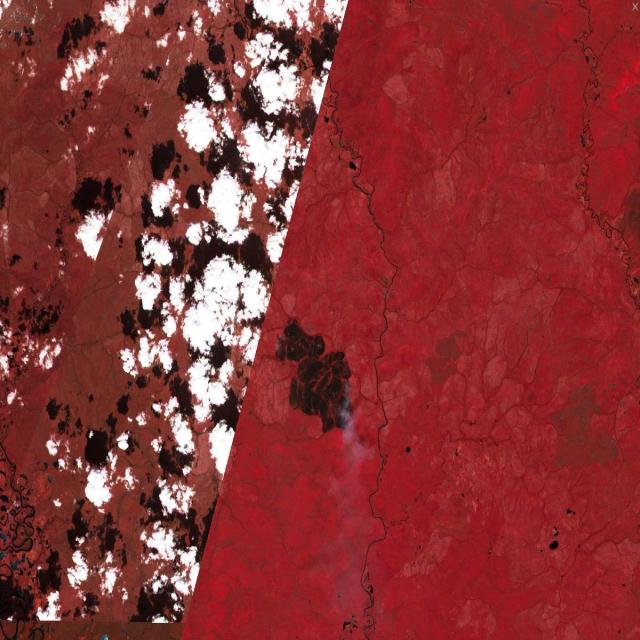fire: (269, 313, 363, 441)
